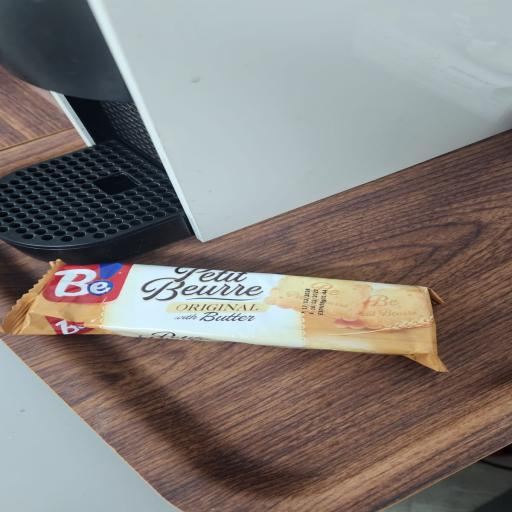petit_beurre: (0, 227, 494, 392)
